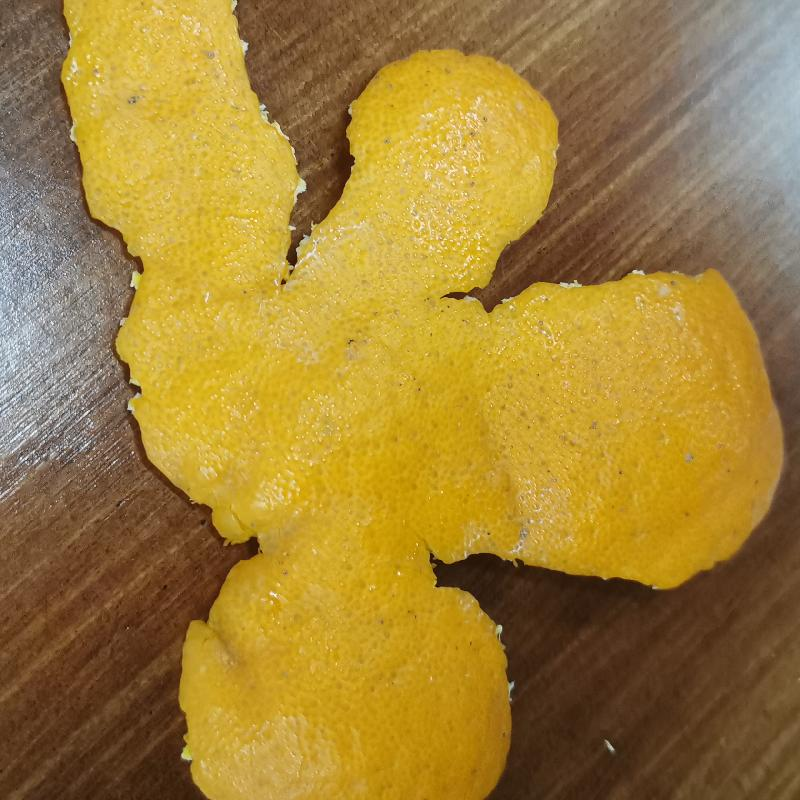orange: (54, 0, 786, 799)
